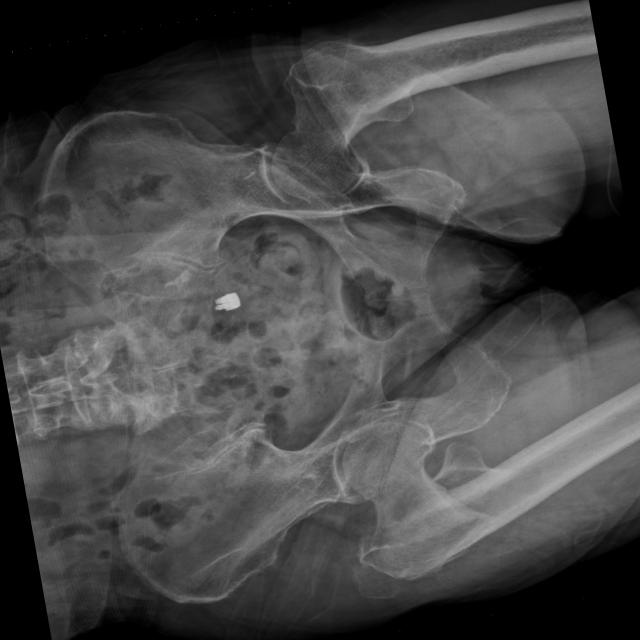normal-left: (270, 19, 491, 198)
right-intertrochanteric: (357, 422, 598, 579), (342, 420, 494, 558)
right-lesser-trochanter: (432, 439, 488, 477)
